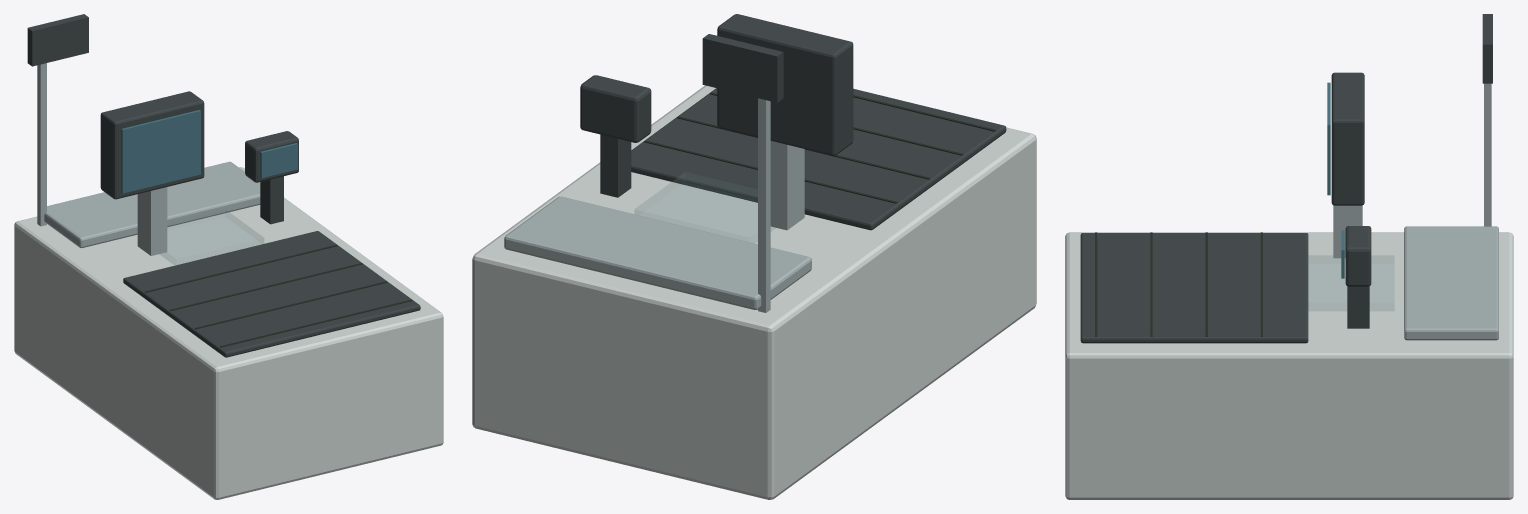
File: self-checkout.glb
3 renders of one model, left to right at view 1: azimuth 30°, elevation 25°; view 2: azimuth 150°, elevation 25°; view 3: azimuth 270°, elevation 25°, orthographic. The views are drawn at different scales.
Parts seen in each view (by area): view 1: self-checkout_fixture_Refrigerator enamel, self-checkout_fixture_Powder-coated graphite, self-checkout_fixture_Brushed stainless, self-checkout_fixture_Pack blue, self-checkout_fixture_Smoked glass approximation, self-checkout_fixture_Crate liner; view 2: self-checkout_fixture_Refrigerator enamel, self-checkout_fixture_Powder-coated graphite, self-checkout_fixture_Brushed stainless, self-checkout_fixture_Smoked glass approximation, self-checkout_fixture_Crate liner; view 3: self-checkout_fixture_Refrigerator enamel, self-checkout_fixture_Powder-coated graphite, self-checkout_fixture_Brushed stainless, self-checkout_fixture_Smoked glass approximation, self-checkout_fixture_Crate liner, self-checkout_fixture_Pack blue.
Part boxes in pixels (<box>): self-checkout_fixture_Refrigerator enamel: <box>14,167,443,499</box>; self-checkout_fixture_Powder-coated graphite: <box>27,14,420,357</box>; self-checkout_fixture_Brushed stainless: <box>37,63,260,255</box>; self-checkout_fixture_Pack blue: <box>121,110,297,193</box>; self-checkout_fixture_Smoked glass approximation: <box>160,210,263,264</box>; self-checkout_fixture_Crate liner: <box>145,244,412,347</box>; self-checkout_fixture_Refrigerator enamel: <box>472,85,1036,499</box>; self-checkout_fixture_Powder-coated graphite: <box>580,14,1006,230</box>; self-checkout_fixture_Brushed stainless: <box>504,98,811,312</box>; self-checkout_fixture_Smoked glass approximation: <box>634,172,775,243</box>; self-checkout_fixture_Crate liner: <box>644,92,995,203</box>; self-checkout_fixture_Refrigerator enamel: <box>1065,232,1513,499</box>; self-checkout_fixture_Powder-coated graphite: <box>1080,14,1492,343</box>; self-checkout_fixture_Brushed stainless: <box>1333,83,1498,340</box>; self-checkout_fixture_Smoked glass approximation: <box>1308,255,1394,310</box>; self-checkout_fixture_Crate liner: <box>1095,232,1262,336</box>; self-checkout_fixture_Pack blue: <box>1327,82,1344,278</box>.
Size of the model in its own units: 1.7 by 2.35 by 2.6.
